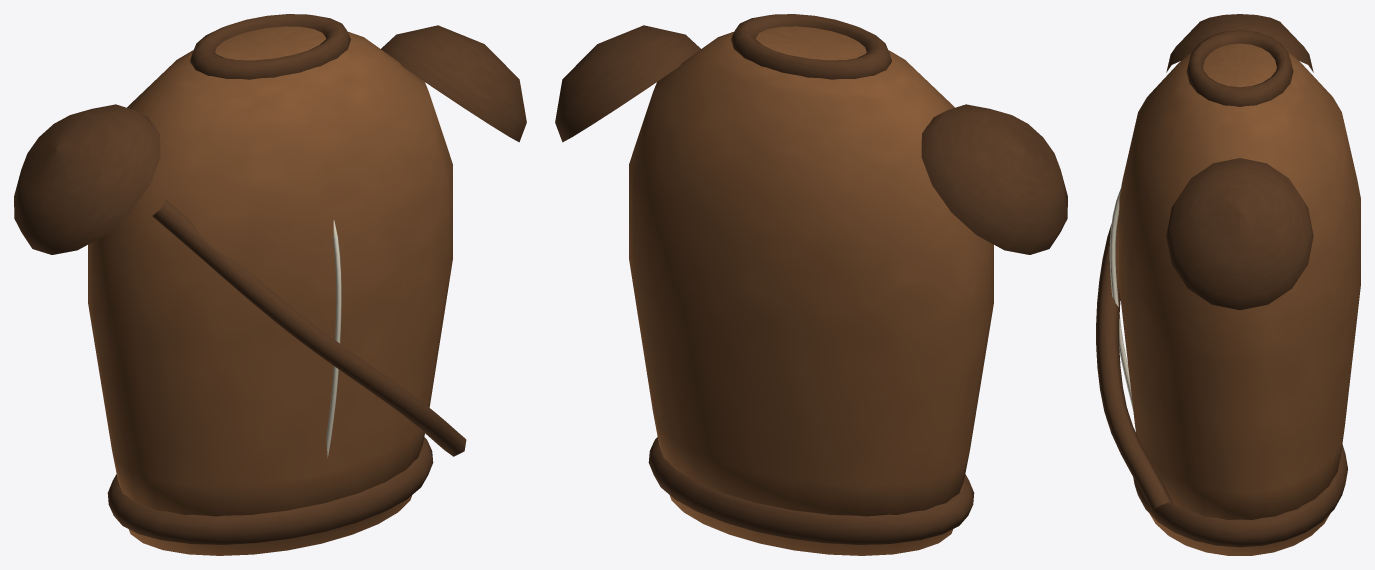
The model's file is platebody_leather.glb.
The picture shows the model from 3 angles, left to right: view 1: azimuth 30°, elevation 25°; view 2: azimuth 150°, elevation 25°; view 3: azimuth 270°, elevation 25°; orthographic projection. The views are drawn at different scales.
Parts seen in each view (by area): view 1: torso; view 2: torso; view 3: torso.
Part boxes in pixels (x1,y1,x2,y2): torso: [14, 14, 526, 555]; torso: [555, 14, 1067, 555]; torso: [1096, 14, 1360, 555].
Size of the model in its own units: 0.5483 by 0.499 by 0.2747.
Materials: 4 (3 with a texture image).
